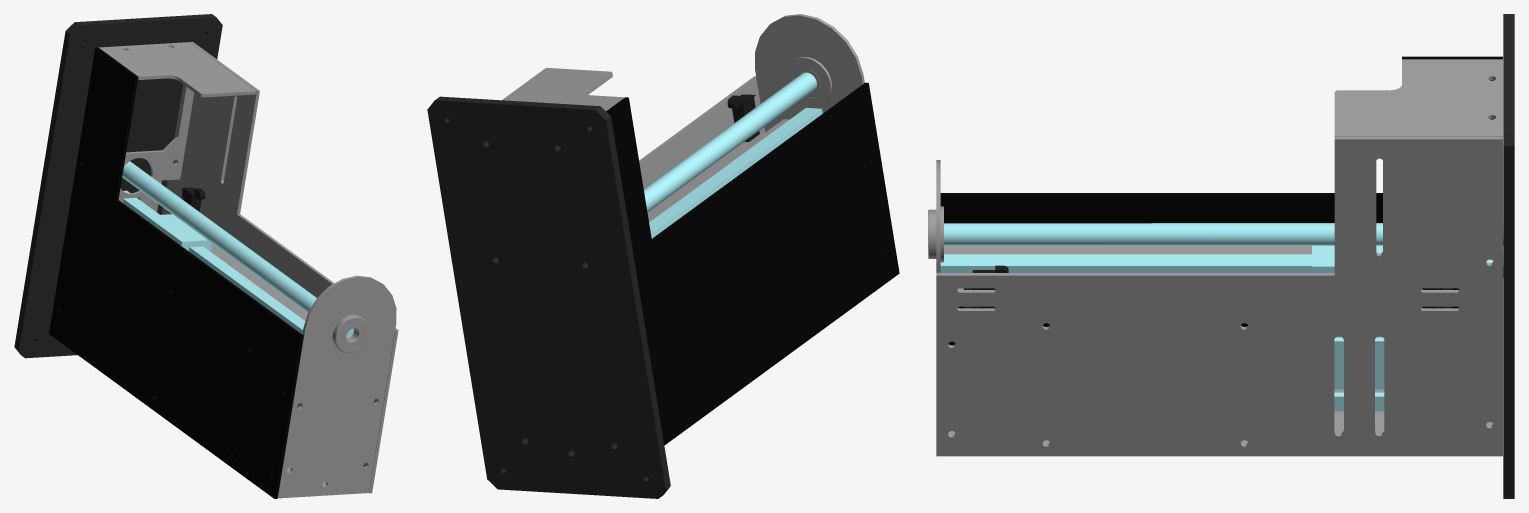
Rendered from Robot_3_Body.gltf.
3 views of the same model, side by side, from view 1: azimuth 30°, elevation 25°; view 2: azimuth 150°, elevation 25°; view 3: azimuth 270°, elevation 25° (orthographic). The views are drawn at different scales.
Parts seen in each view (by area): view 1: StaticMesh4; view 2: StaticMesh4; view 3: StaticMesh4.
Part boxes in pixels (<box>): StaticMesh4: <box>14,14,398,498</box>; StaticMesh4: <box>427,14,899,498</box>; StaticMesh4: <box>928,14,1514,498</box>.
Bounding box in the file's own units: 13.15 × 21.26 × 26.05.
